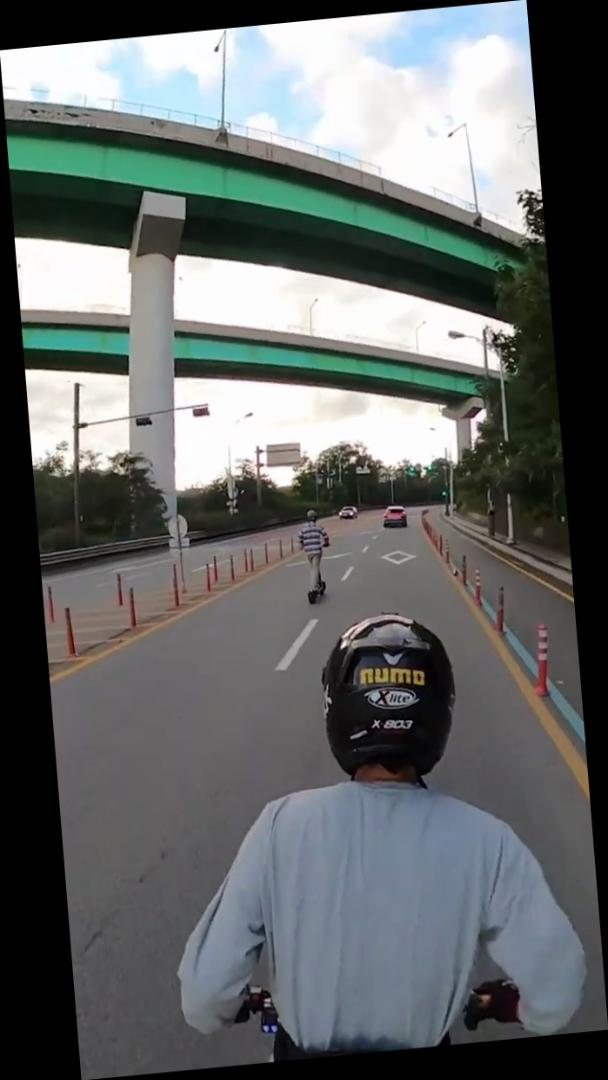helmet: (294, 507, 336, 608)
